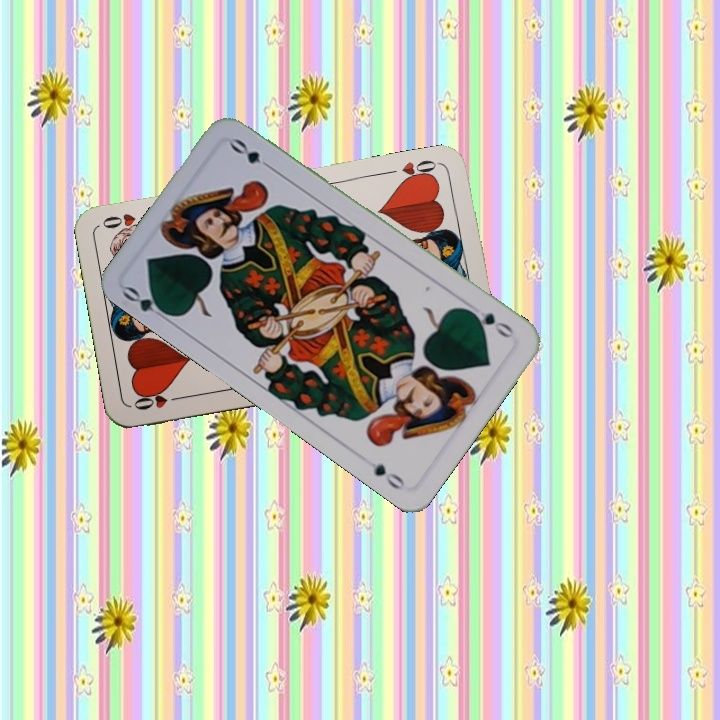GO: (118, 282, 175, 325), (464, 305, 517, 341)
HO: (129, 388, 188, 413), (396, 156, 442, 186)
